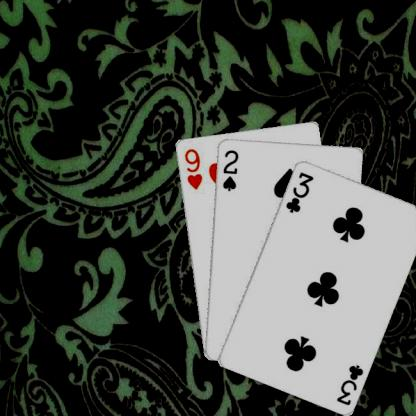2S: (219, 147, 240, 192)
3C: (283, 168, 315, 214), (333, 362, 365, 406)
9H: (181, 145, 204, 191)
